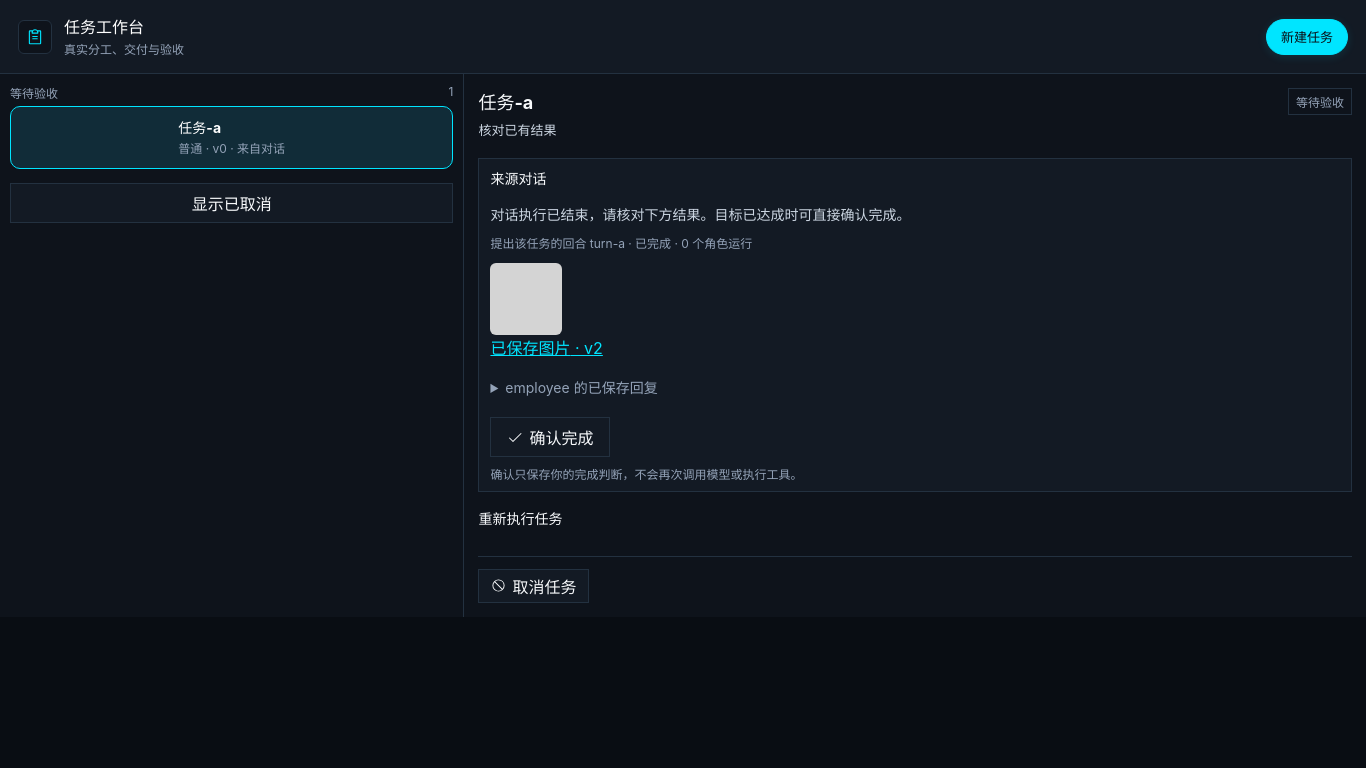
Test case: confirms an existing result through the completion API, refreshes the board, and never executes it again
Click the button "确认完成".
click(550, 437)  # box x1=490 y1=417 x2=610 y2=457
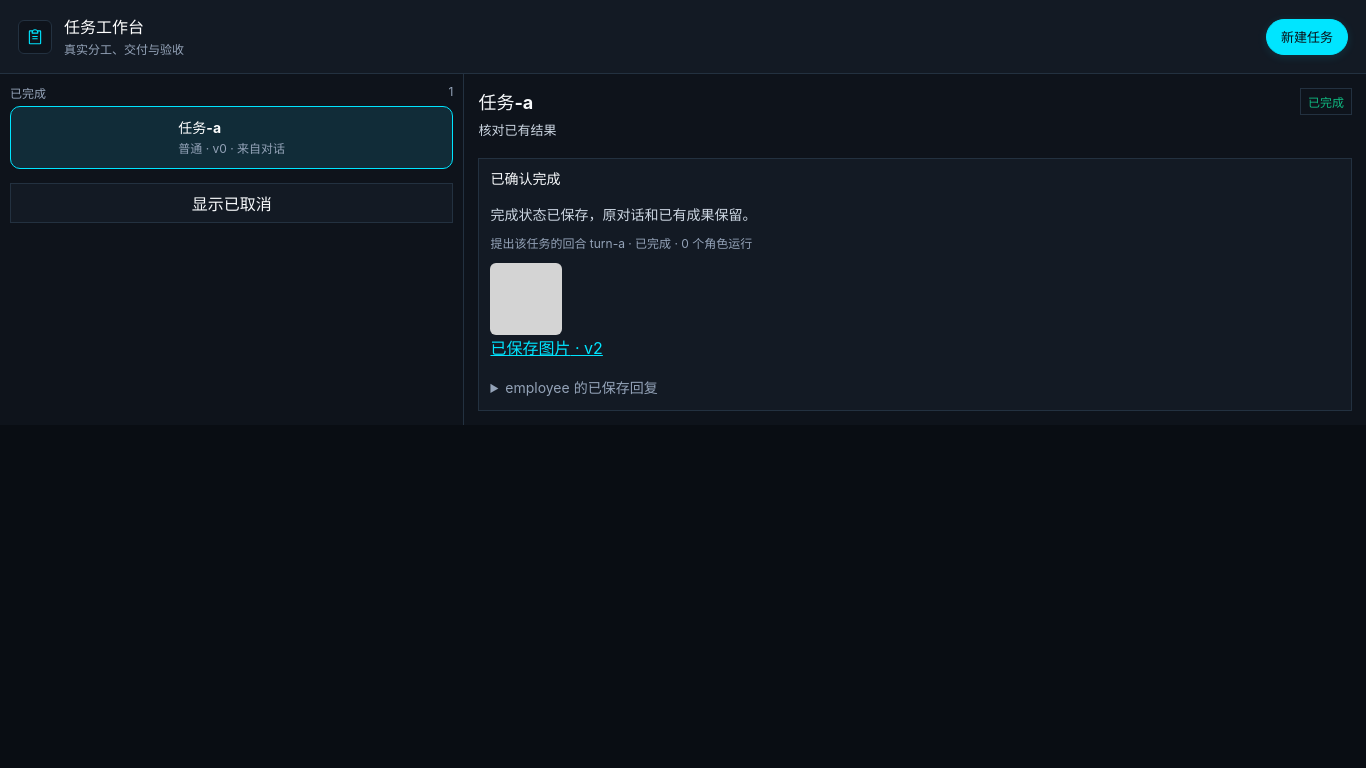
expect the text "已确认完成" is shown: met, box x1=490 y1=170 x2=560 y2=187
expect the text with class "task-status" reads "已完成": met, box x1=1308 y1=95 x2=1344 y2=110
